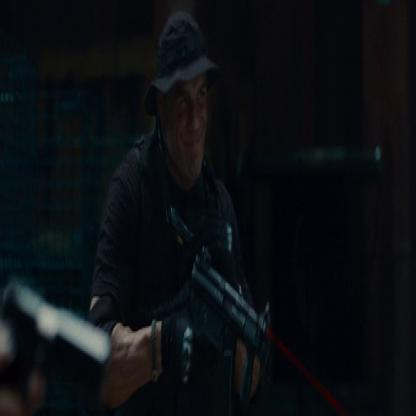Guns: (159, 238, 275, 414), (0, 276, 113, 415)
